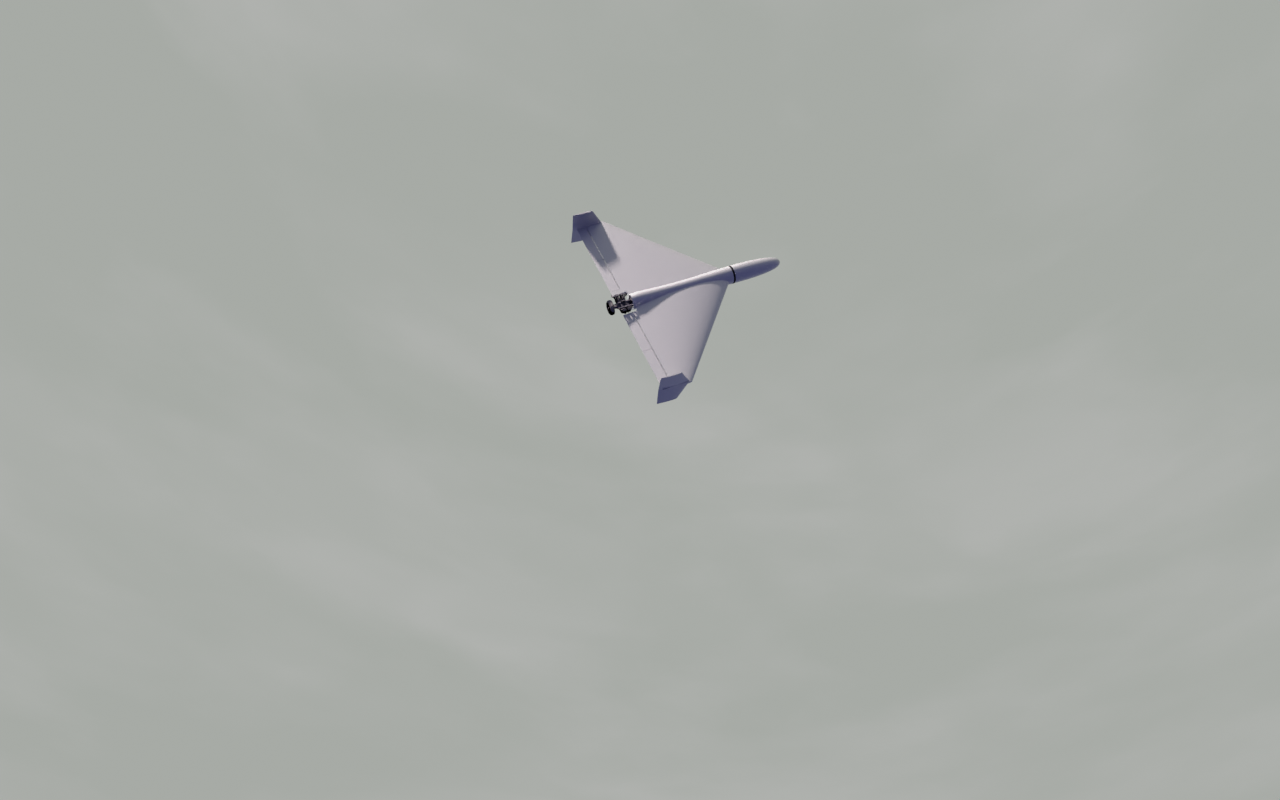shahed: (571, 211, 782, 406)
